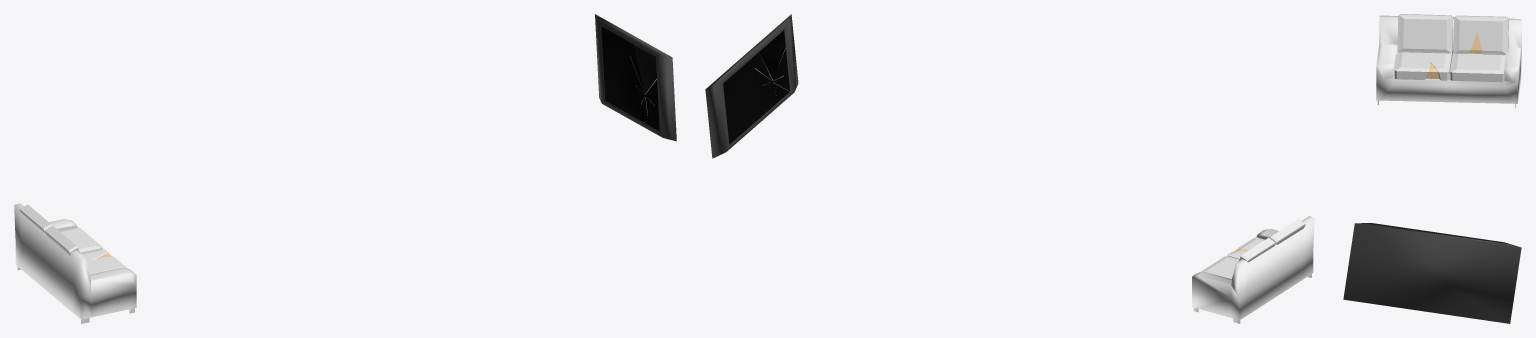
3 views of the same model, side by side, from view 1: azimuth 30°, elevation 25°; view 2: azimuth 150°, elevation 25°; view 3: azimuth 270°, elevation 25° (orthographic). The views are drawn at different scales.
Parts seen in each view (by area): view 1: TV, Sofa.002, Cube.008, Cube.044; view 2: TV, Sofa.002, Cube.044; view 3: TV, Sofa.002, Cube.022, Cube.045, Cube.008, Cube.044.
Boxes of the visible parts, box(x1,y1,x2,y2) form: TV: box(595, 14, 676, 141); Sofa.002: box(14, 203, 136, 323); Cube.008: box(80, 248, 127, 274); Cube.044: box(59, 227, 102, 252); TV: box(705, 14, 798, 158); Sofa.002: box(1192, 216, 1314, 323); Cube.044: box(1199, 256, 1239, 278); TV: box(1343, 223, 1521, 323); Sofa.002: box(1376, 15, 1521, 108); Cube.022: box(1397, 14, 1453, 53); Cube.045: box(1453, 15, 1509, 55); Cube.008: box(1394, 51, 1452, 80); Cube.044: box(1450, 52, 1505, 82).
Size of the model in its own units: 10.61 by 2.33 by 2.86.
Materials: 2 (2 with a texture image).
